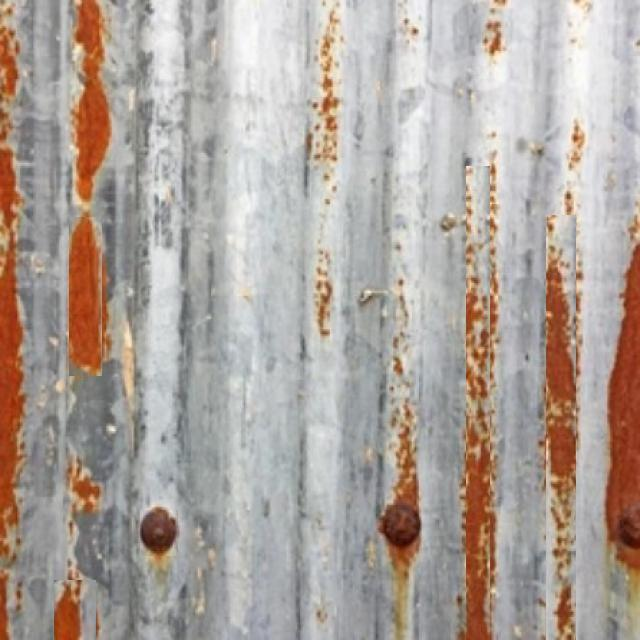Corrosion: (462, 185, 500, 640), (0, 0, 24, 640), (608, 244, 640, 572), (73, 0, 111, 202), (68, 211, 108, 374), (547, 244, 577, 416), (53, 574, 107, 640), (66, 459, 103, 516), (379, 503, 422, 548), (140, 508, 178, 554)
